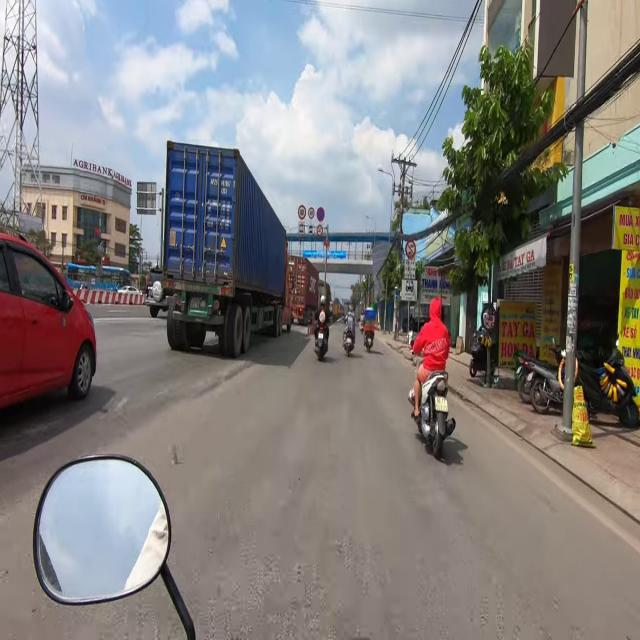bien_trang: (434, 396, 447, 414)
